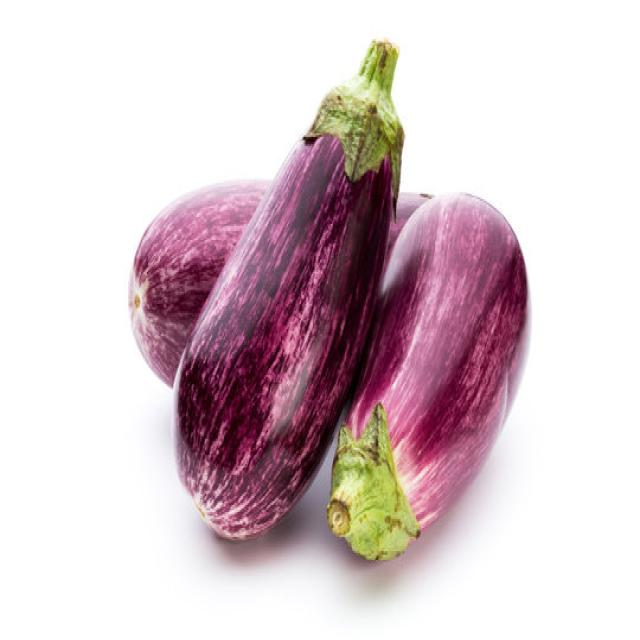Eggplant: (171, 36, 404, 542), (326, 188, 531, 562), (126, 176, 272, 388)
